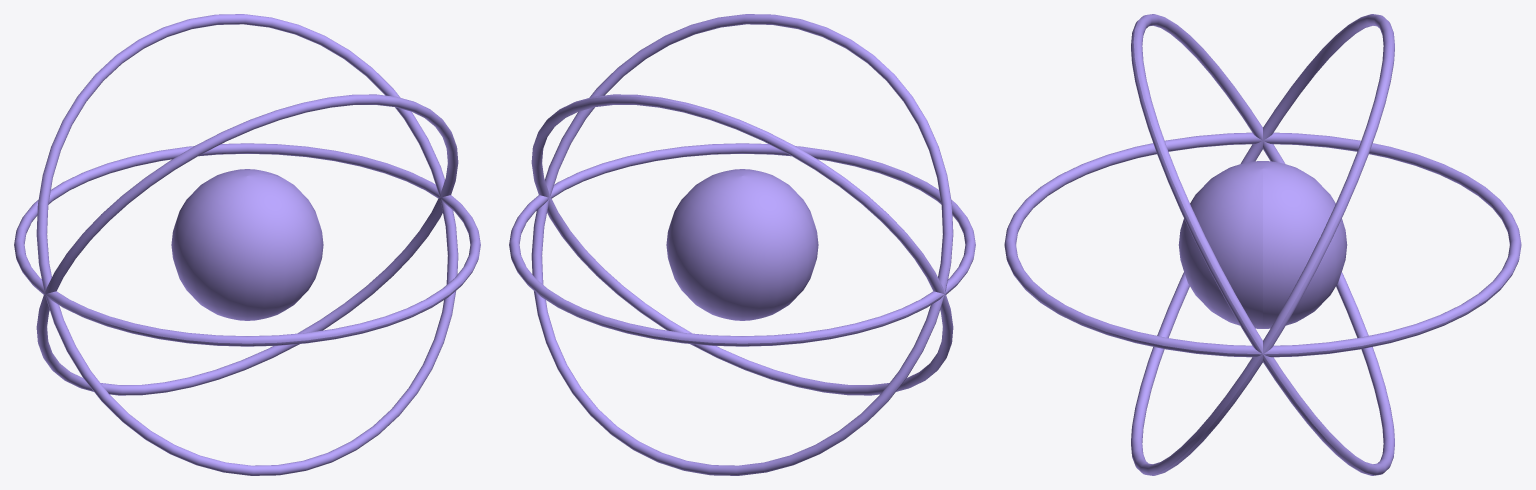
Rendered from atom.glb.
3 views of the same model, side by side, from view 1: azimuth 30°, elevation 25°; view 2: azimuth 150°, elevation 25°; view 3: azimuth 270°, elevation 25° (orthographic). The views are drawn at different scales.
Visible parts, largest first — view 1: Atom; view 2: Atom; view 3: Atom.
Part boxes in pixels (x1,y1,x2,y2): Atom: (14,14,480,475); Atom: (509,14,975,475); Atom: (1004,14,1521,475).
Size of the model in its own units: 1.6 by 1.39 by 1.6.
